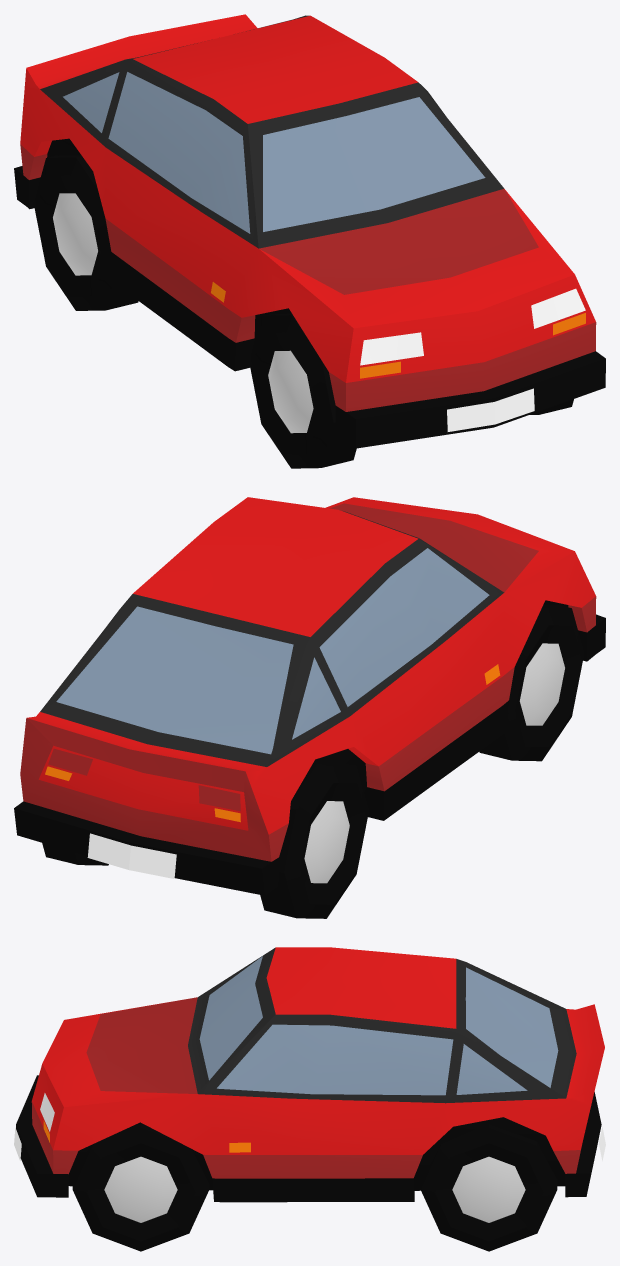
File: sedan_red.glb
3 views of the same model, one above another, from view 1: azimuth 30°, elevation 25°; view 2: azimuth 150°, elevation 25°; view 3: azimuth 270°, elevation 25° (orthographic). The views are drawn at different scales.
Parts seen in each view (by area): view 1: Object_16; view 2: Object_16; view 3: Object_16.
Boxes of the visible parts, x1,y1,x2,y2 form: Object_16: (14,14,605,468); Object_16: (14,497,605,918); Object_16: (14,947,605,1251).
Bounding box in the file's own units: 2.47 × 2.37 × 5.68.
Materials: 1 (1 with a texture image).
